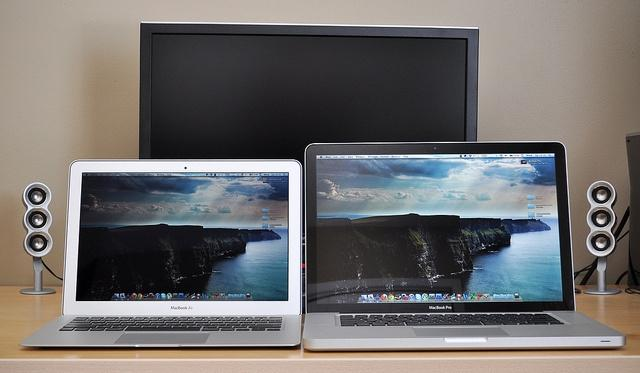AIO PC-Monitor-TV: (137, 20, 479, 161)
